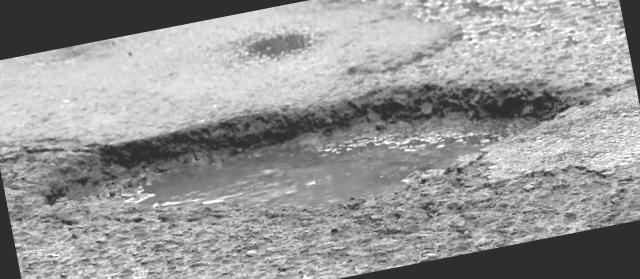Pothole: (0, 28, 621, 279)
